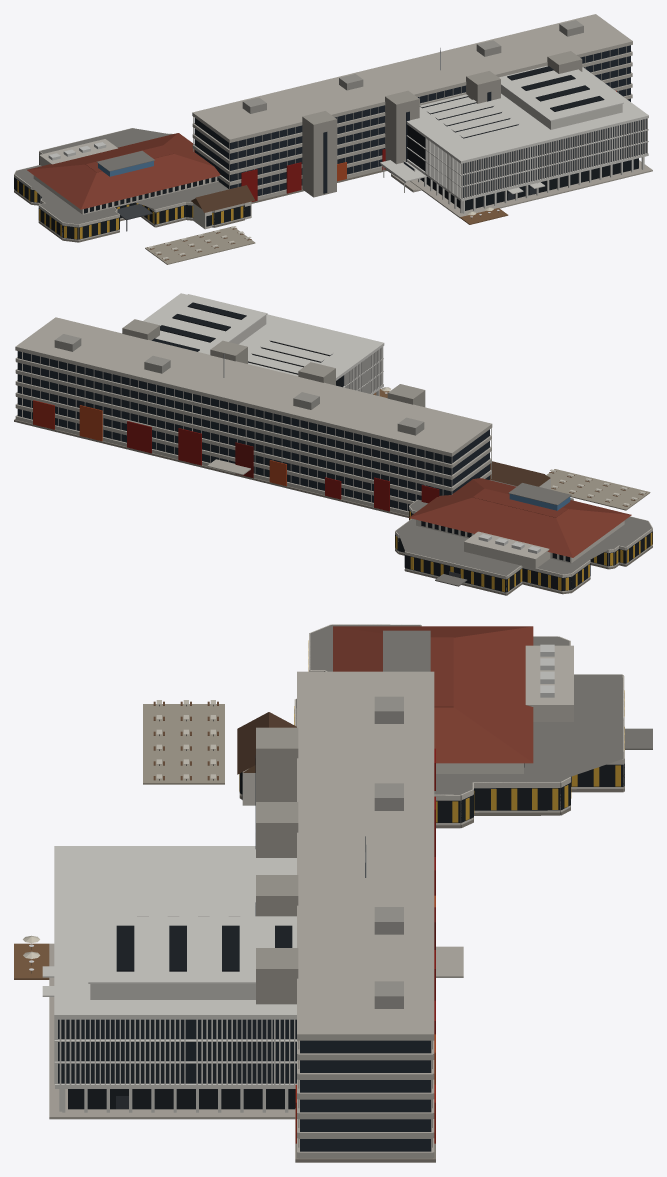
Rendered from lichtwiese.glb.
The picture shows the model from 3 angles, top to bottom: view 1: azimuth 30°, elevation 25°; view 2: azimuth 150°, elevation 25°; view 3: azimuth 270°, elevation 25°; orthographic projection. The views are drawn at different scales.
Visible parts, largest first — view 1: maschinenbau, hmz, mensa_lw; view 2: maschinenbau, mensa_lw, hmz; view 3: maschinenbau, hmz, mensa_lw.
Boxes of the visible parts, x1,y1,x2,y2 form: maschinenbau: (192,14,632,203); hmz: (380,65,652,224); mensa_lw: (14,128,255,264); maschinenbau: (14,317,492,517); mensa_lw: (395,461,652,595); hmz: (143,293,390,397); maschinenbau: (255,671,463,1162); hmz: (14,846,296,1119); mensa_lw: (143,624,652,828).
Bounding box in the file's own units: 204 × 31.8 × 109.
